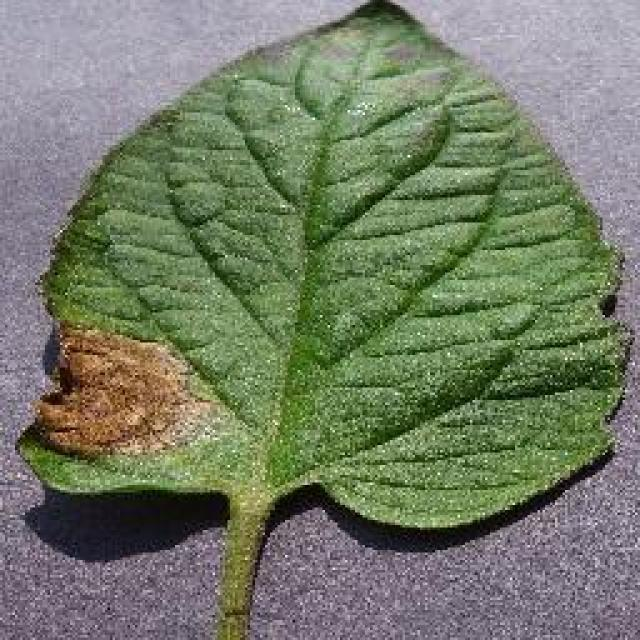Tomato late blight leaf: (34, 0, 628, 558)
